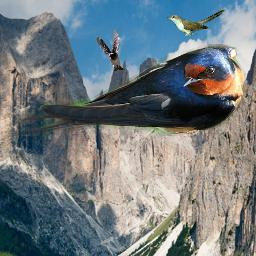Cuckoo: (166, 9, 225, 36)
Swallow: (15, 44, 246, 136), (96, 29, 125, 71)
